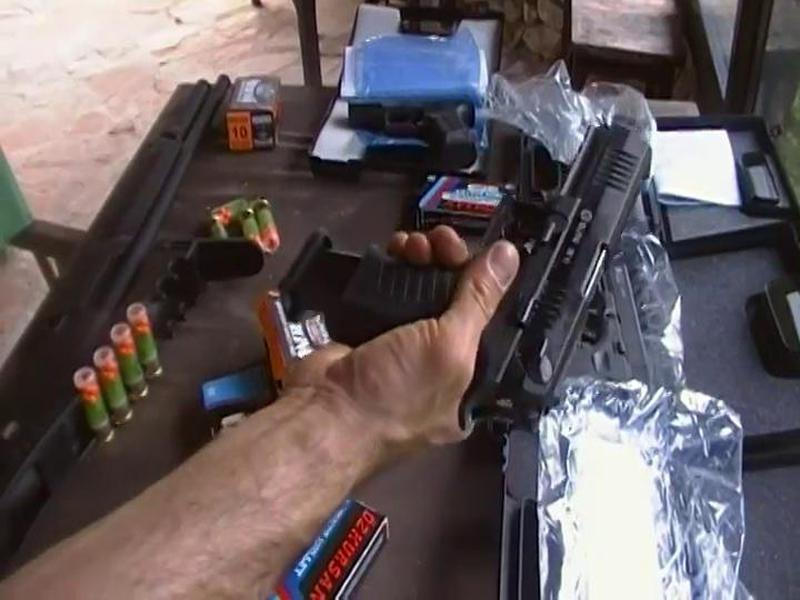Pistola: (325, 108, 690, 420)
